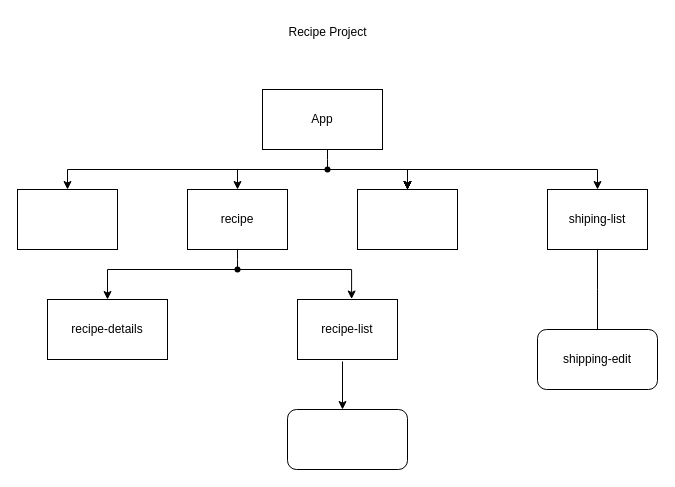
This 675x487 diagram has some shape labels left out. Here are the shapes that lost their labels. From the top down, the box of each, then its label:
(16, 188, 118, 250): header
(356, 188, 458, 250): shared
(286, 408, 408, 470): recipe-item
